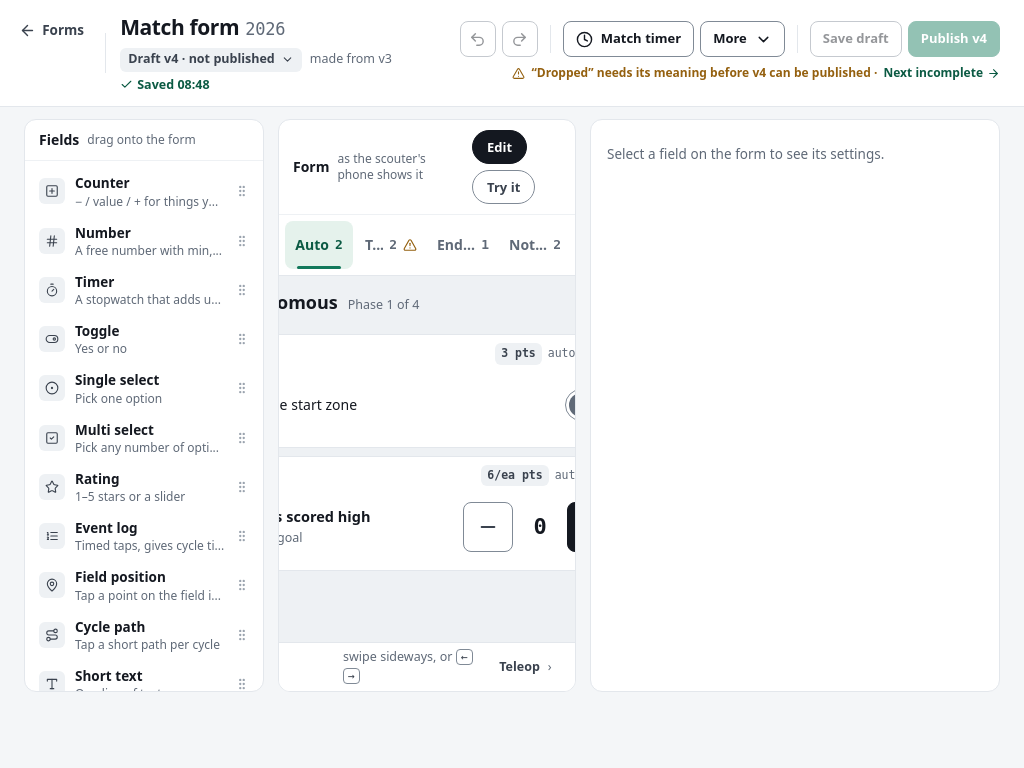
Test: Try it: fix round 1 (task 1.31) › Next incomplete leaves Try it for Edit, so the field it finds is shown selected
This screenshot has width=1024, height=768.
expect the element "Form" is shown: met, box [278,119,576,692]
Click the button "Try it": x=504, y=187 [472,170,535,204]
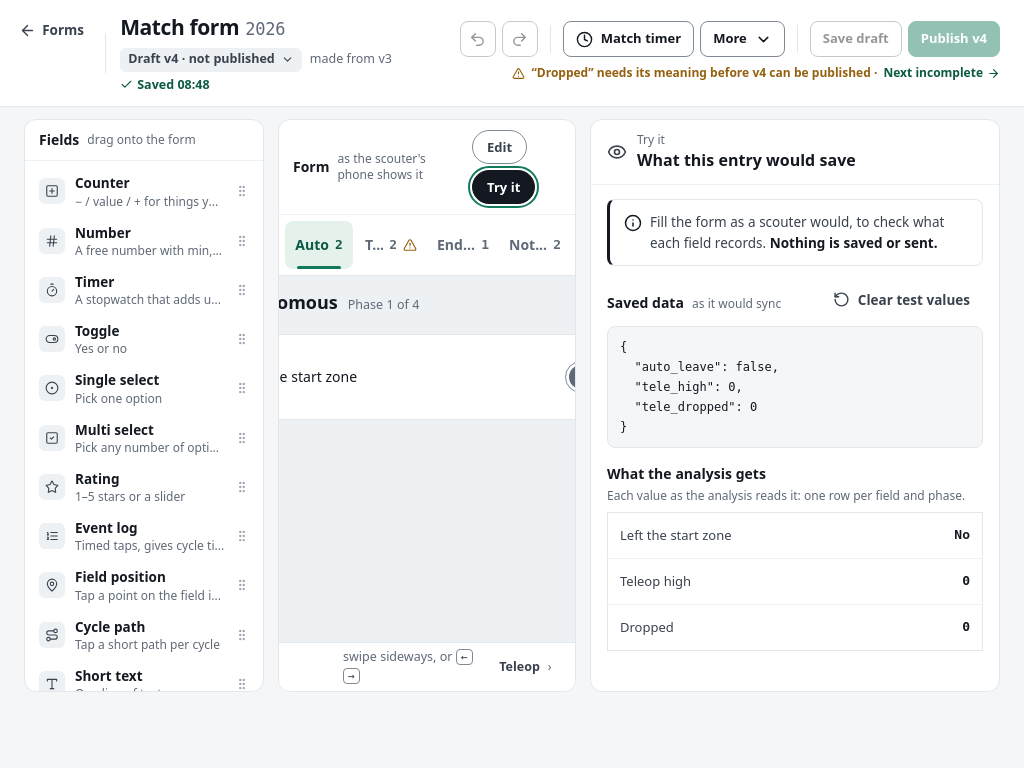
Click the button "Next incomplete": x=942, y=73 [883,61,1000,85]
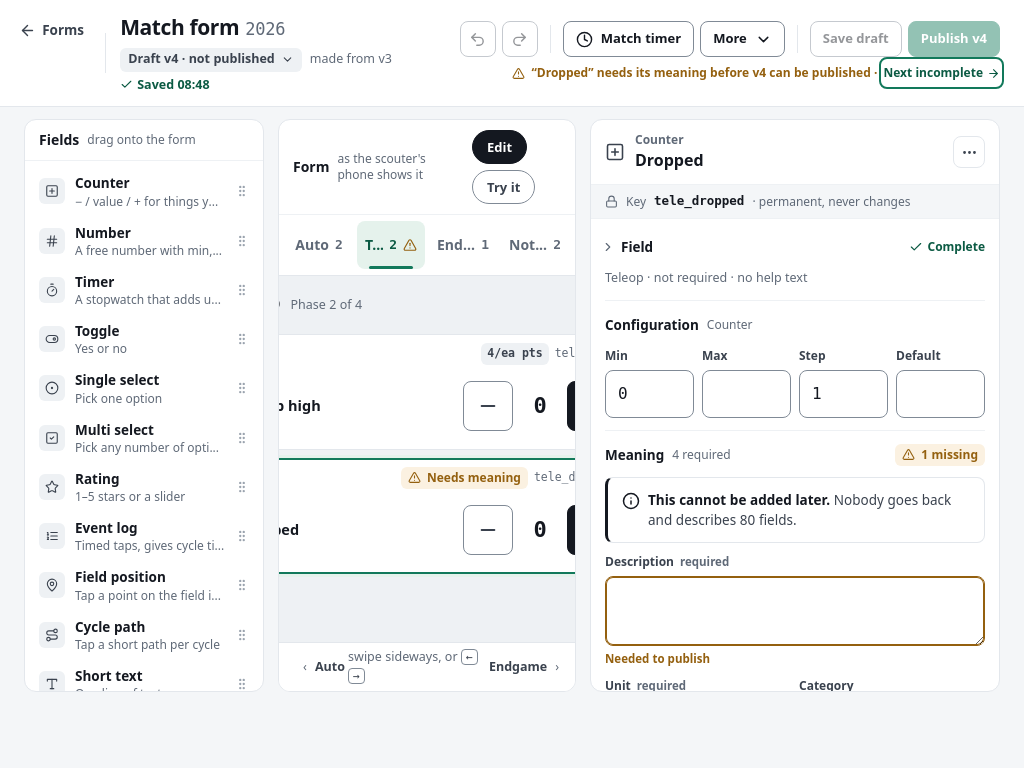
expect the heading "What this entry would save" is gone: met
expect the heading "Dropped" is shown: met, box [635,148,704,172]
